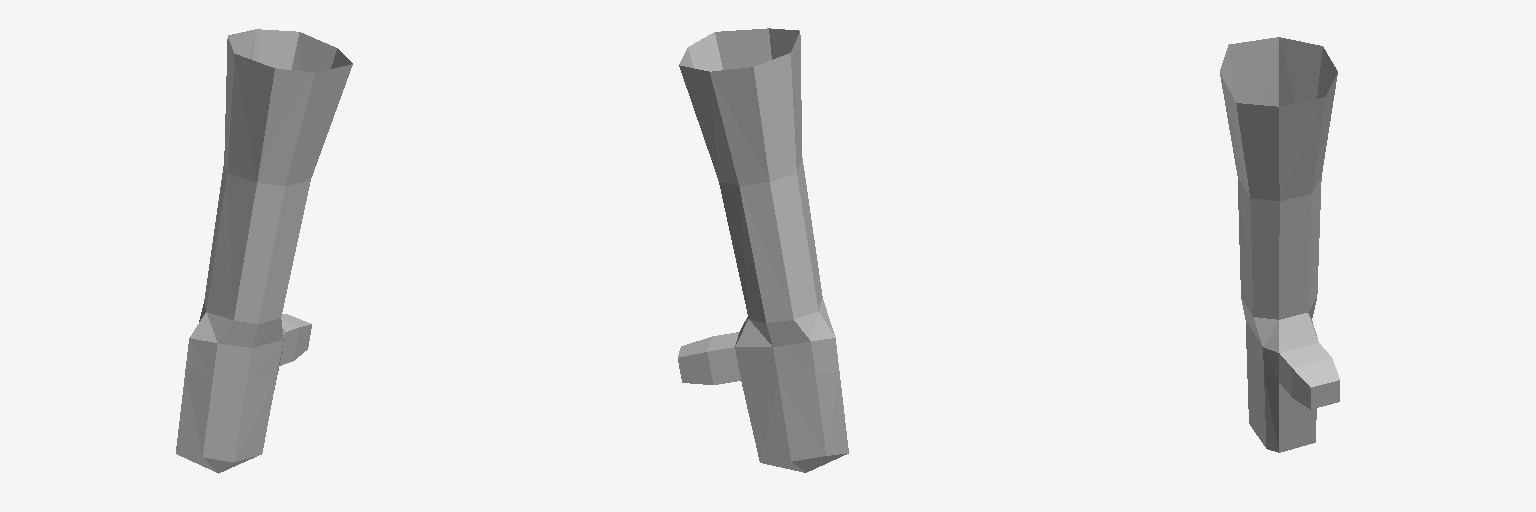
Rendered from lowerRarm.obj.
3 views of the same model, side by side, from view 1: azimuth 30°, elevation 25°; view 2: azimuth 150°, elevation 25°; view 3: azimuth 270°, elevation 25° (orthographic).
Parts seen in each view (by area): view 1: lowerRarm_Cube.002; view 2: lowerRarm_Cube.002; view 3: lowerRarm_Cube.002.
Boxes of the visible parts, x1=… form: lowerRarm_Cube.002: x1=176, y1=29, x2=352, y2=473; lowerRarm_Cube.002: x1=678, y1=28, x2=848, y2=472; lowerRarm_Cube.002: x1=1220, y1=37, x2=1339, y2=452.
Size of the model in its own units: 0.4242 by 1.05 by 0.2746.